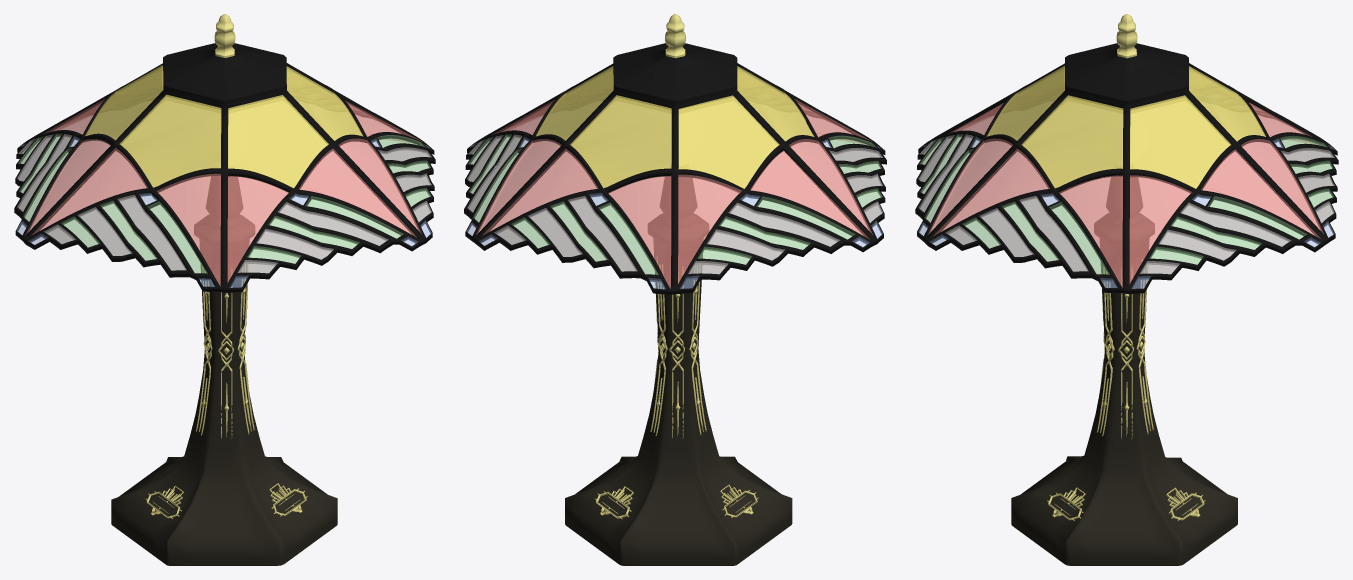
File: art_deco_lamp_2.glb
The picture shows the model from 3 angles, left to right: view 1: azimuth 30°, elevation 25°; view 2: azimuth 150°, elevation 25°; view 3: azimuth 270°, elevation 25°; orthographic projection.
Visible parts, largest first — view 1: Frame1, Bass, Frame1.010, Frame1.011, RedGlass2.001, Frame1.002, RedGlass2, Frame1.003, Frame1.009, Frame1.012, Frame1.001, RedGlass2.002 (+17 smaller); view 2: Frame1, Bass, Frame1.008, Frame1.009, RedGlass2.003, Frame1.004, RedGlass2.002, Frame1.005, Frame1.007, Frame1.010, RedGlass2.004, Frame1.003 (+18 smaller); view 3: Frame1, Bass, Frame1.012, Frame1.007, RedGlass2.005, Frame1.006, RedGlass2.004, Frame1.001, Frame1.011, Frame1.008, RedGlass2, Frame1.005 (+17 smaller).
Part boxes in pixels (left/top/right/bottom): Frame1: left=14, top=14, right=435, bottom=292; Bass: left=111, top=176, right=337, bottom=565; Frame1.010: left=119, top=94, right=221, bottom=187; Frame1.011: left=228, top=95, right=328, bottom=188; RedGlass2.001: left=157, top=173, right=220, bottom=286; Frame1.002: left=227, top=176, right=288, bottom=282; RedGlass2: left=299, top=148, right=416, bottom=237; Frame1.003: left=32, top=148, right=148, bottom=235; Frame1.009: left=85, top=65, right=163, bottom=140; Frame1.012: left=286, top=66, right=363, bottom=140; Frame1.001: left=338, top=138, right=421, bottom=233; RedGlass2.002: left=25, top=139, right=110, bottom=235; Frame1: left=464, top=14, right=886, bottom=294; Bass: left=565, top=177, right=792, bottom=565; Frame1.008: left=570, top=95, right=671, bottom=188; Frame1.009: left=678, top=95, right=779, bottom=188; RedGlass2.003: left=608, top=176, right=671, bottom=288; Frame1.004: left=678, top=174, right=741, bottom=283; RedGlass2.002: left=750, top=150, right=869, bottom=238; Frame1.005: left=483, top=149, right=598, bottom=235; Frame1.007: left=536, top=66, right=613, bottom=140; Frame1.010: left=737, top=66, right=814, bottom=141; RedGlass2.004: left=476, top=139, right=561, bottom=235; Frame1.003: left=789, top=139, right=872, bottom=234; Frame1: left=915, top=14, right=1338, bottom=293; Bass: left=1011, top=177, right=1237, bottom=565; Frame1.012: left=1021, top=95, right=1123, bottom=188; Frame1.007: left=1130, top=95, right=1231, bottom=188; RedGlass2.005: left=1059, top=175, right=1122, bottom=287; Frame1.006: left=1129, top=175, right=1192, bottom=283; RedGlass2.004: left=1201, top=149, right=1321, bottom=239; Frame1.001: left=933, top=149, right=1049, bottom=236; Frame1.011: left=987, top=65, right=1064, bottom=140; Frame1.008: left=1189, top=66, right=1265, bottom=141; RedGlass2: left=928, top=138, right=1012, bottom=234; Frame1.005: left=1241, top=139, right=1323, bottom=233.
Size of the model in its own units: 2.85 by 3.45 by 2.6.
